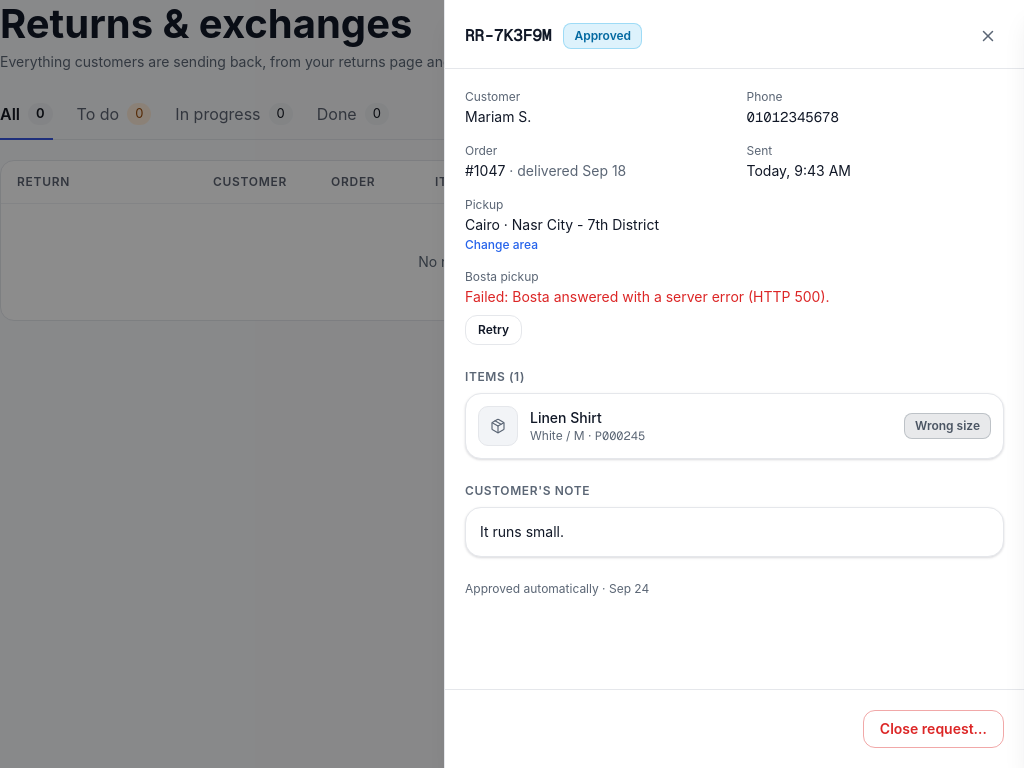
Test: Drawer → booking refresh after an action › stays pending → gives up after 23 refreshes (~45 s)
This screenshot has width=1024, height=768.
Expected: the text "RR-7K3F9M" is shown, [465,25,551,46]
Click the button "Retry". click: click(494, 330)
box: [465,315,522,345]
Wait 70000 ms
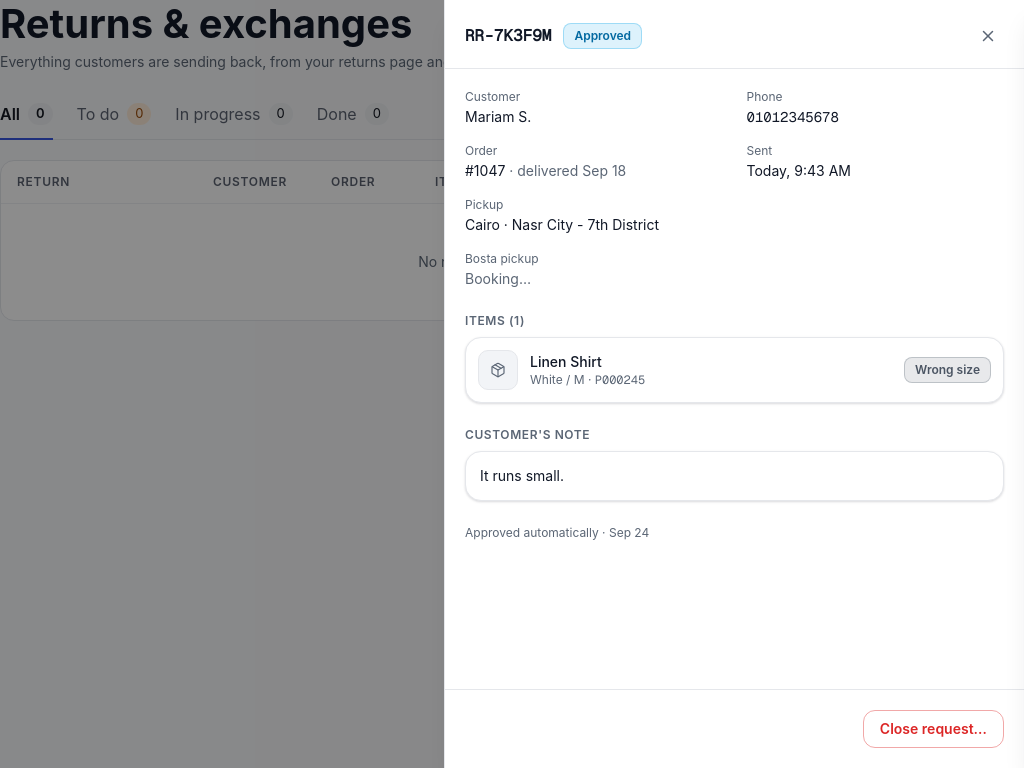
Expected: the text "Booking…" is shown, [465,270,531,287]
